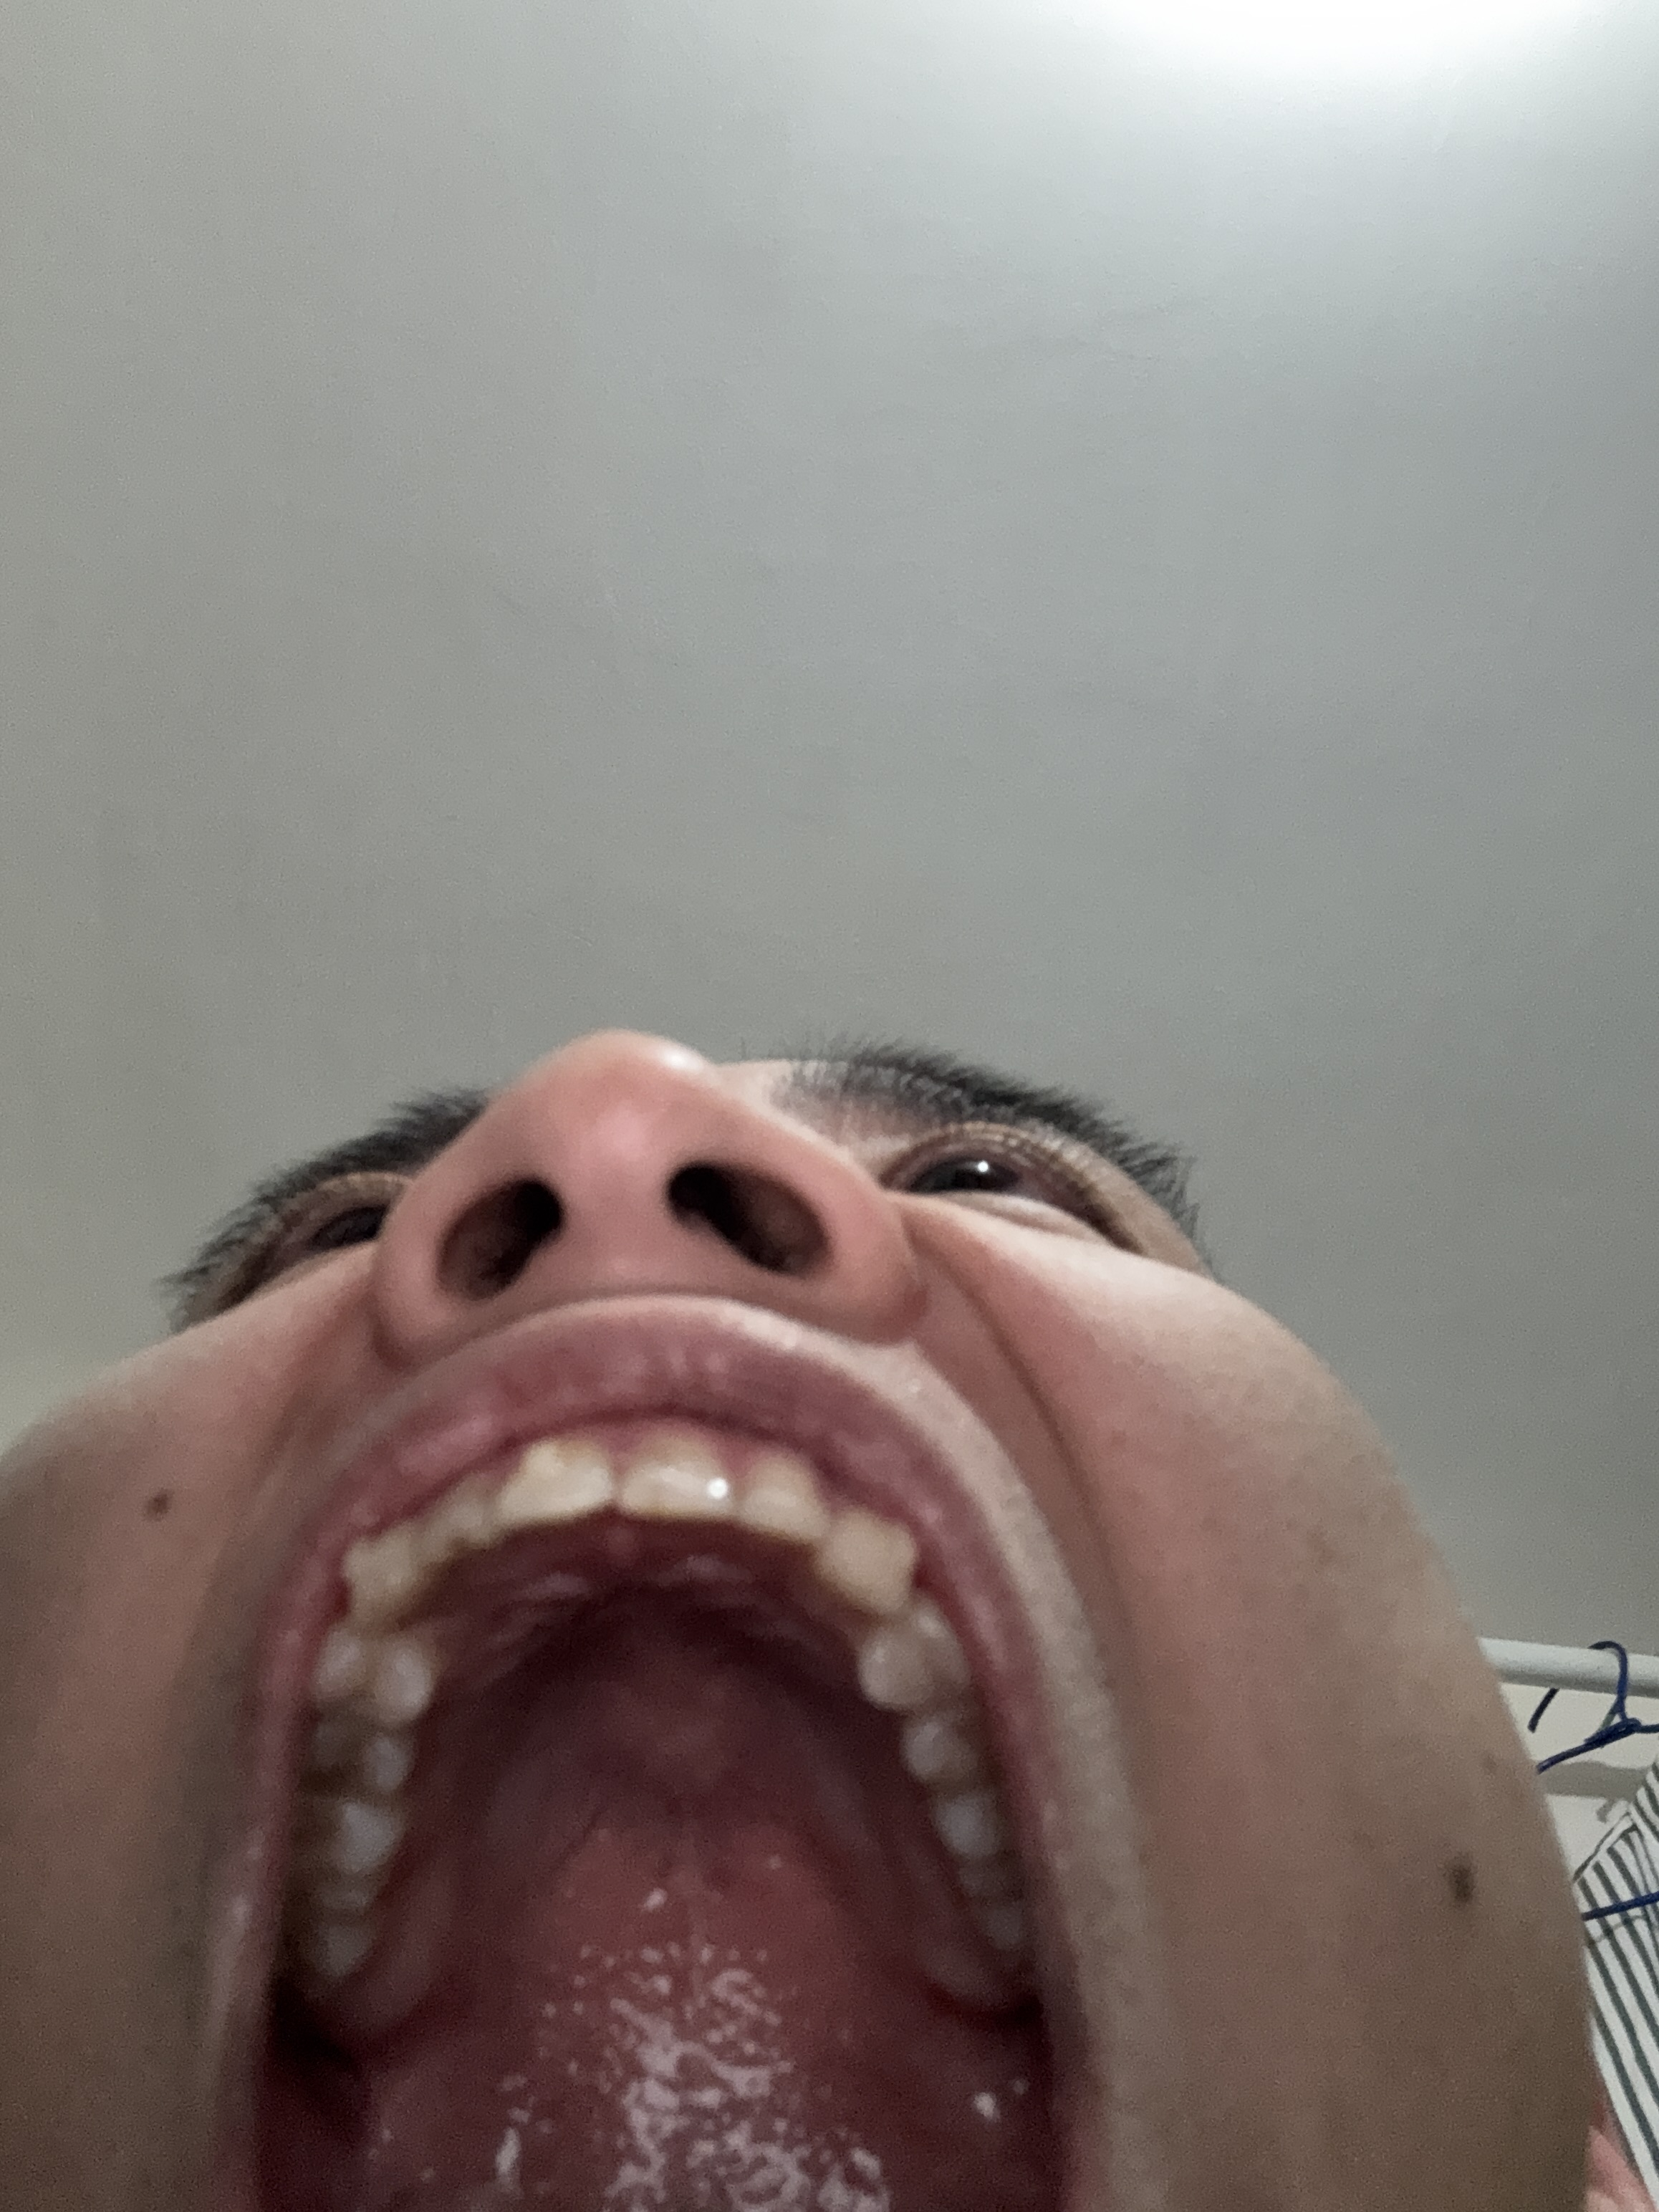teeth: (293, 1792, 406, 1905), (314, 1622, 436, 1717), (861, 1597, 969, 1705), (819, 1510, 915, 1615), (626, 1437, 734, 1519), (349, 1526, 434, 1618), (737, 1453, 829, 1536), (509, 1440, 610, 1515), (308, 1717, 410, 1789), (423, 1470, 498, 1566), (906, 1705, 990, 1778), (932, 1787, 1014, 1860), (303, 1900, 378, 1977), (960, 1869, 1019, 1919)
